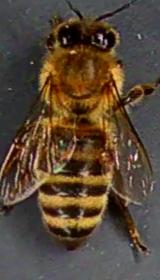varroa_mite: (94, 138, 128, 176)
